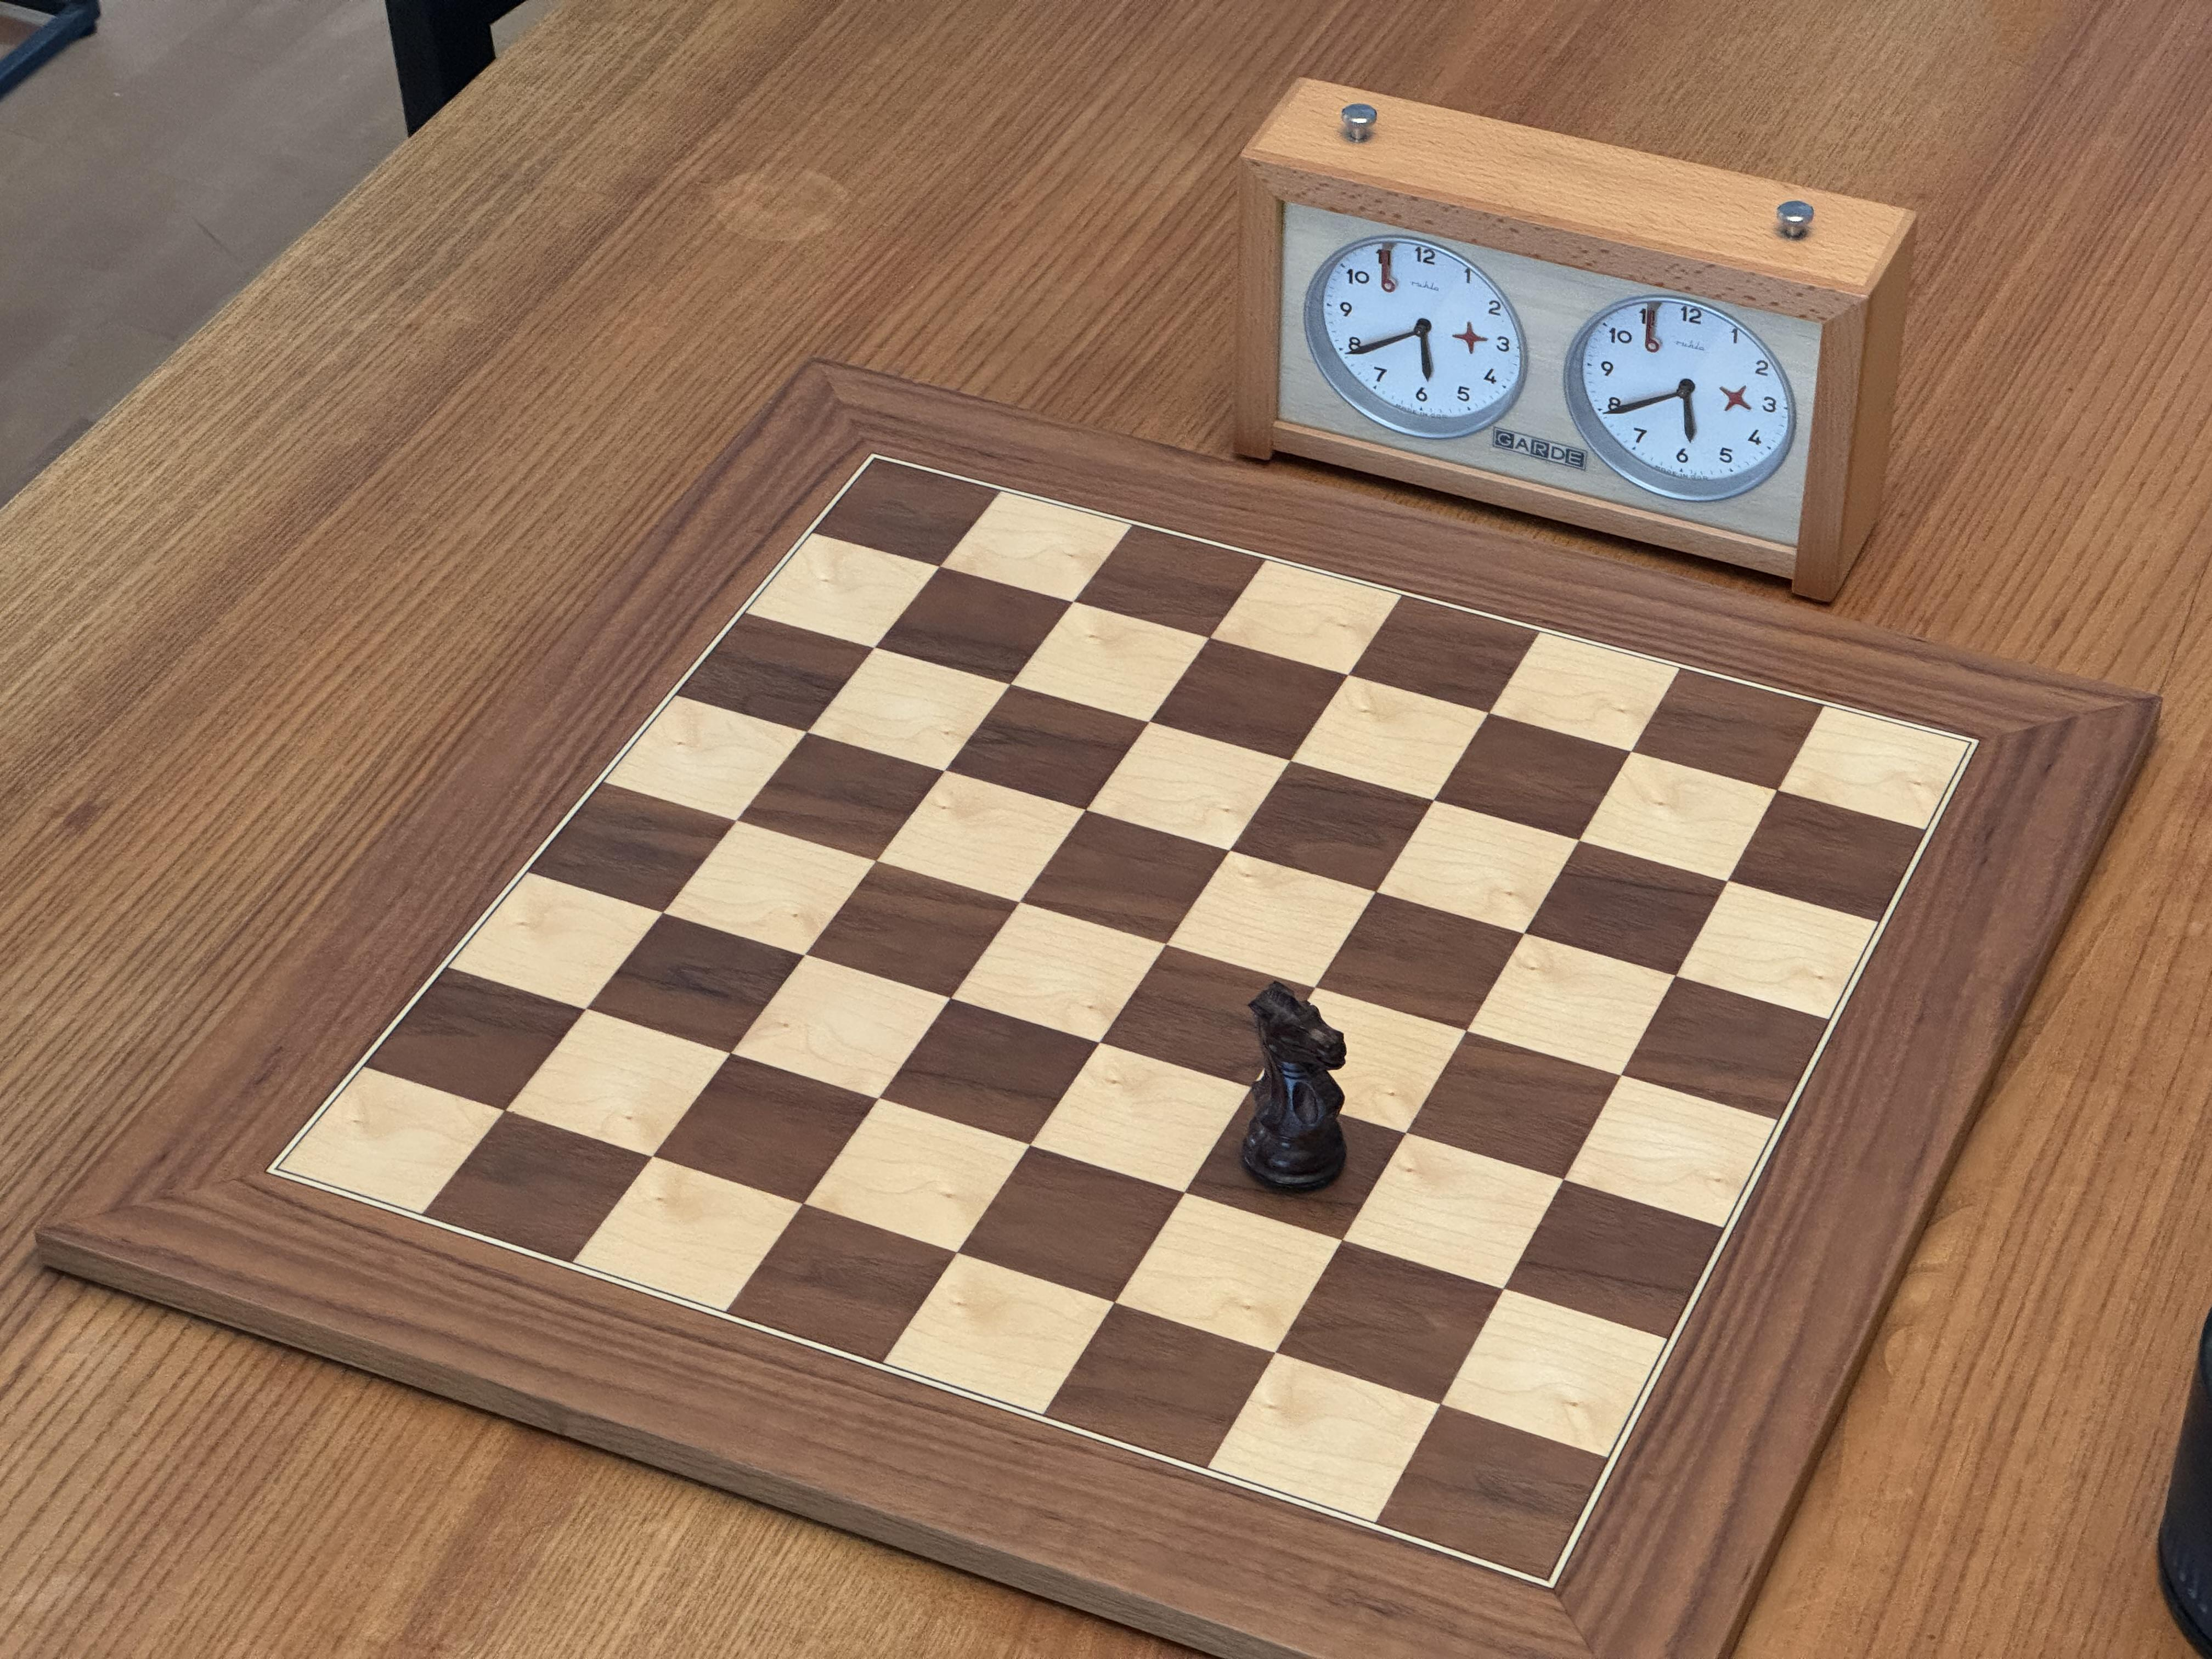Black Knight: (1234, 972, 1357, 1198)
